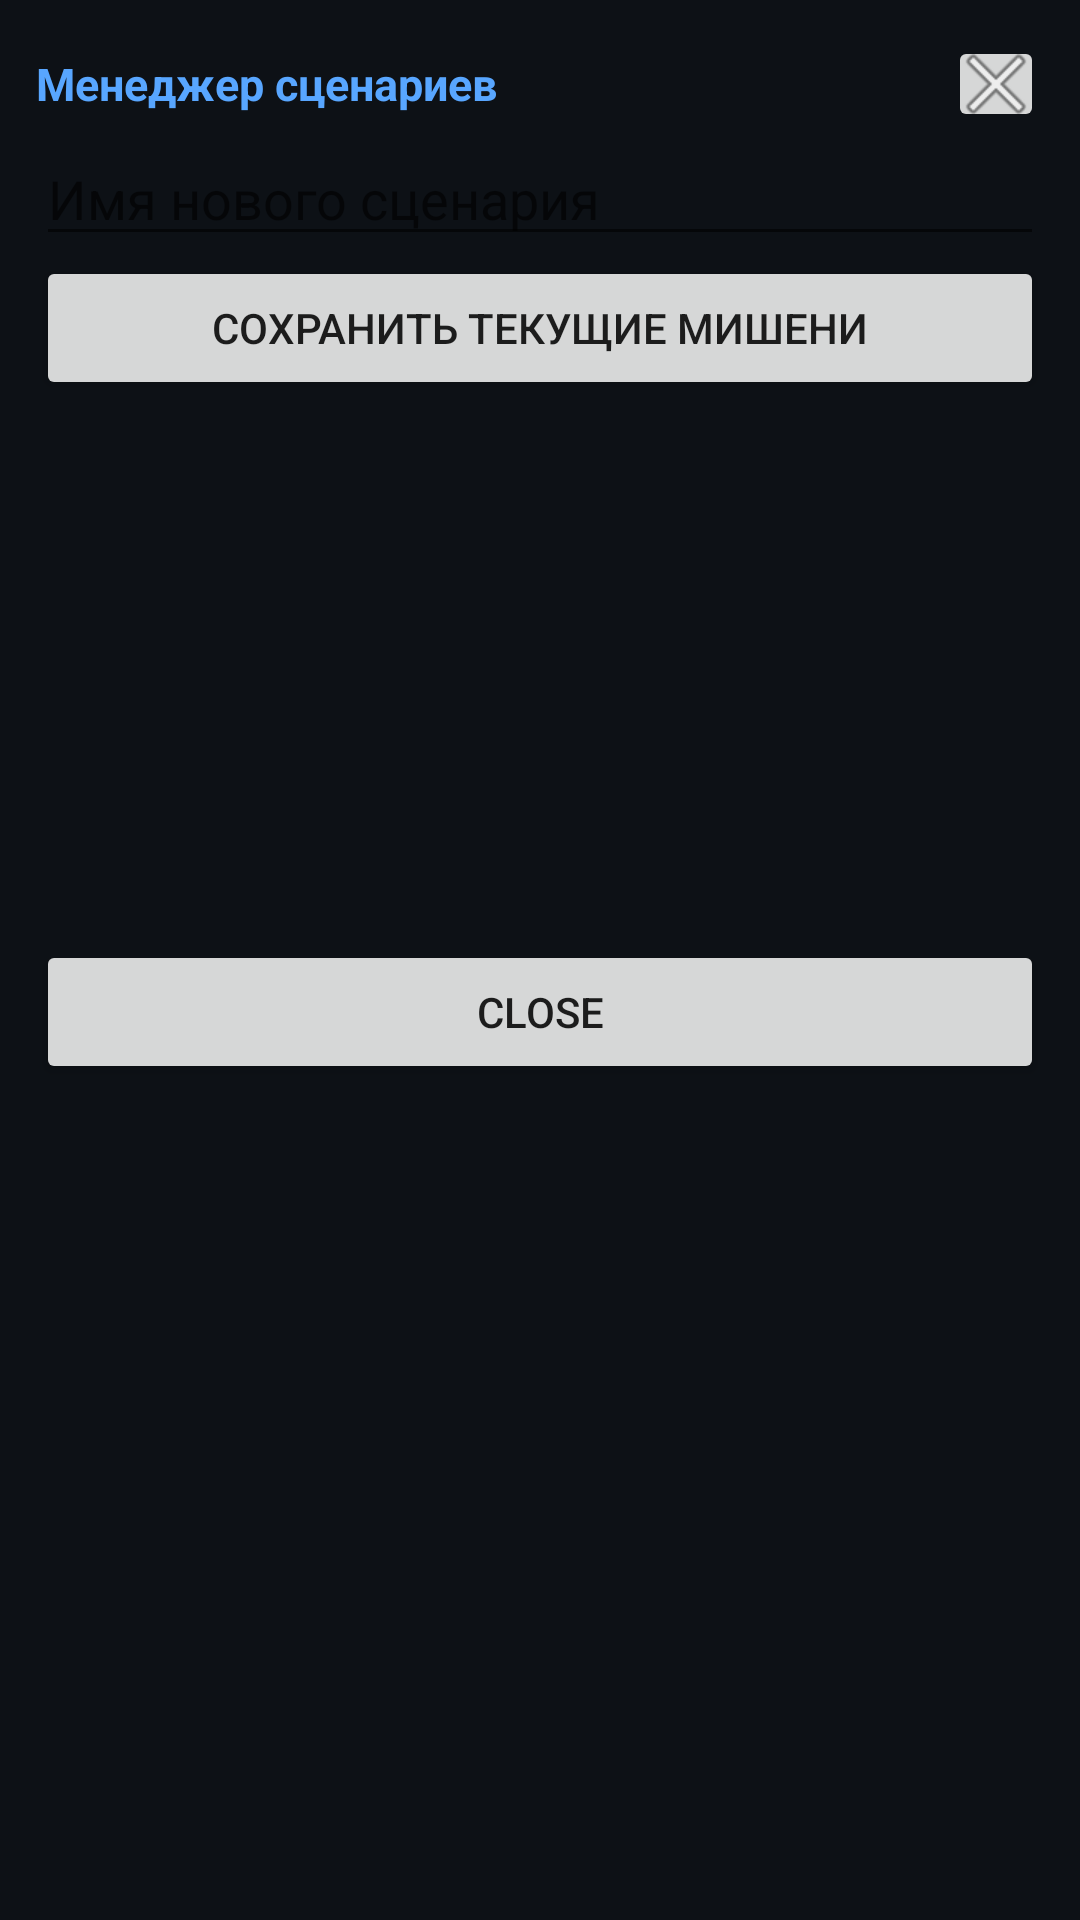

Point at icon controls on the screen. Image size 1080*1920, points as point (x, y).
Close: point (996, 84)
